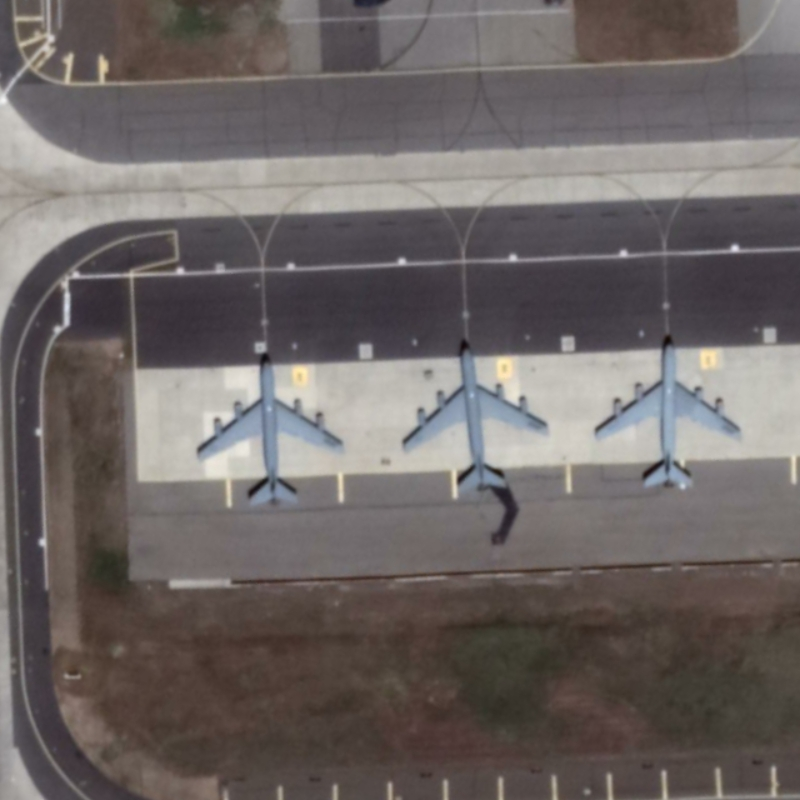A14: (193, 339, 364, 519), (591, 322, 749, 503), (399, 332, 558, 504)
